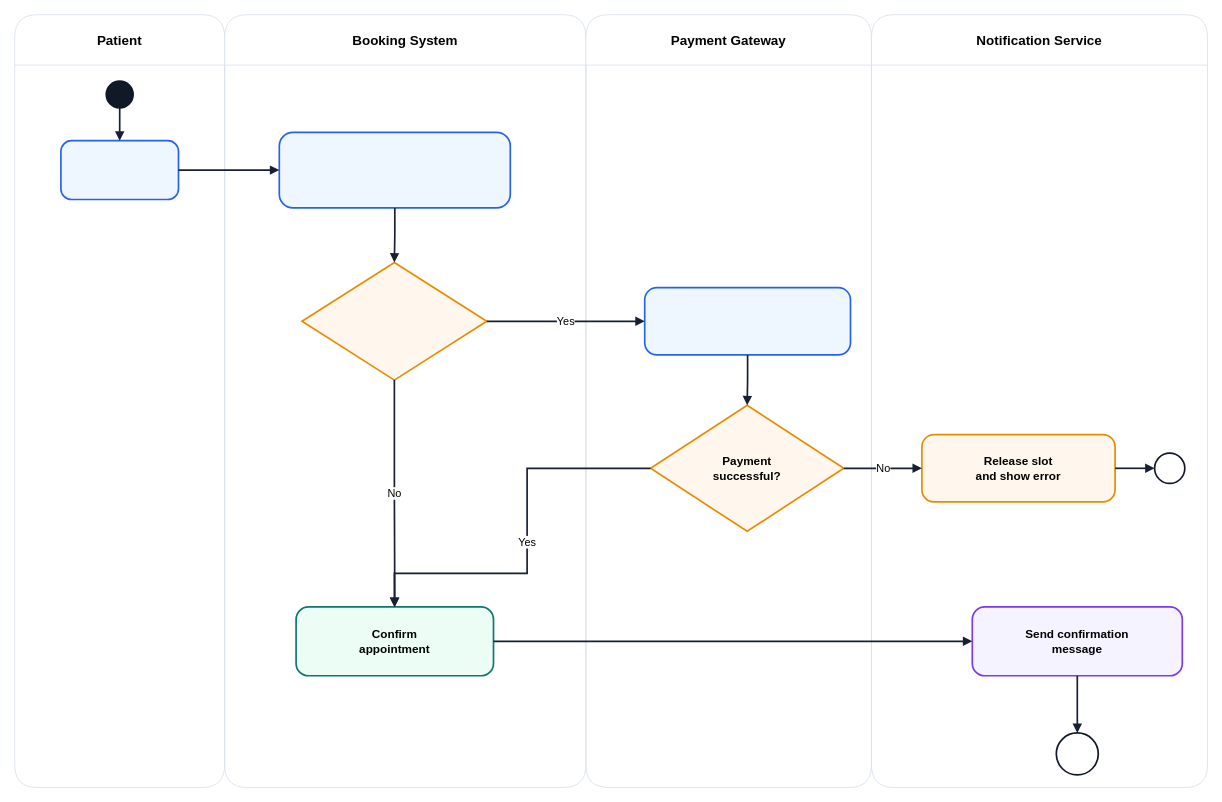
The diagram is 1222 pixels wide and 802 high, and some of its shapes have lost their labels. The shapes that lost their labels are listed below. From the top down, each one's centre as x and y in pixels, then its label:
At (119,169): "Select slot".
At (394,169): "Temporarily reserve selected slot".
At (394,321): "Prepayment required?".
At (747,320): "Authorize payment".
